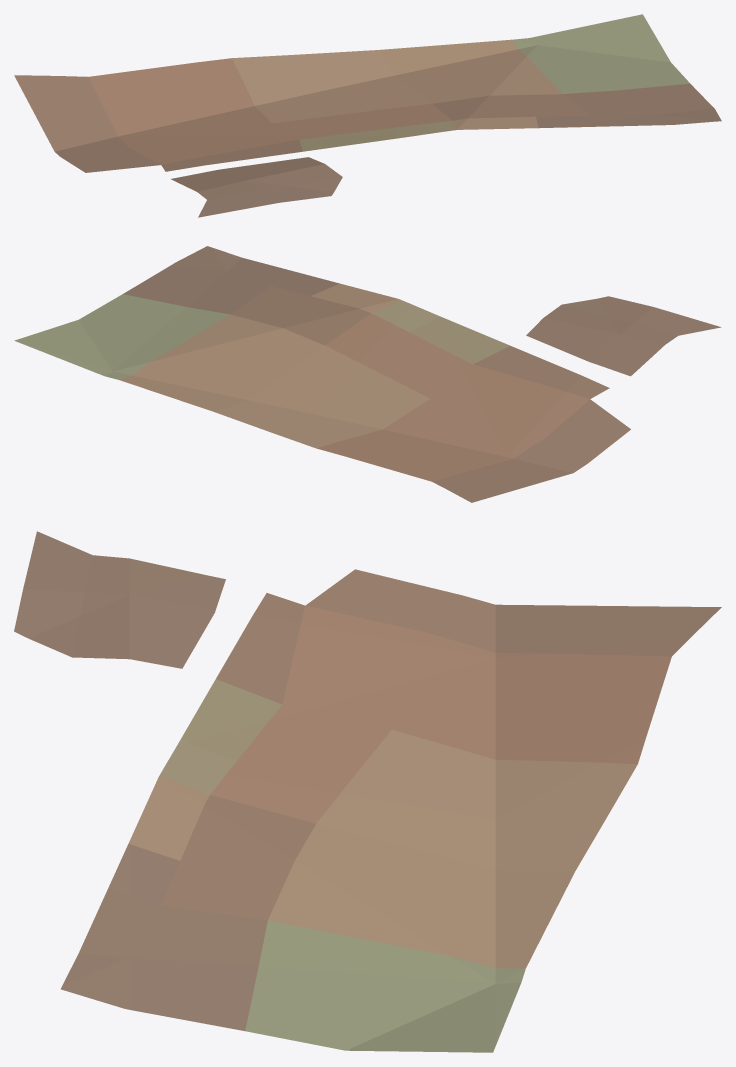
The model's file is farm_-47_-46_soil.glb.
3 views of the same model, one above another, from view 1: azimuth 30°, elevation 25°; view 2: azimuth 150°, elevation 25°; view 3: azimuth 270°, elevation 25° (orthographic). The views are drawn at different scales.
Visible parts, largest first — view 1: geometry_0; view 2: geometry_0; view 3: geometry_0.
Boxes of the visible parts, x1,y1,x2,y2 form: geometry_0: (14, 14, 721, 217); geometry_0: (14, 246, 721, 502); geometry_0: (14, 531, 721, 1052).
Size of the model in its own units: 233 by 21.63 by 155.
